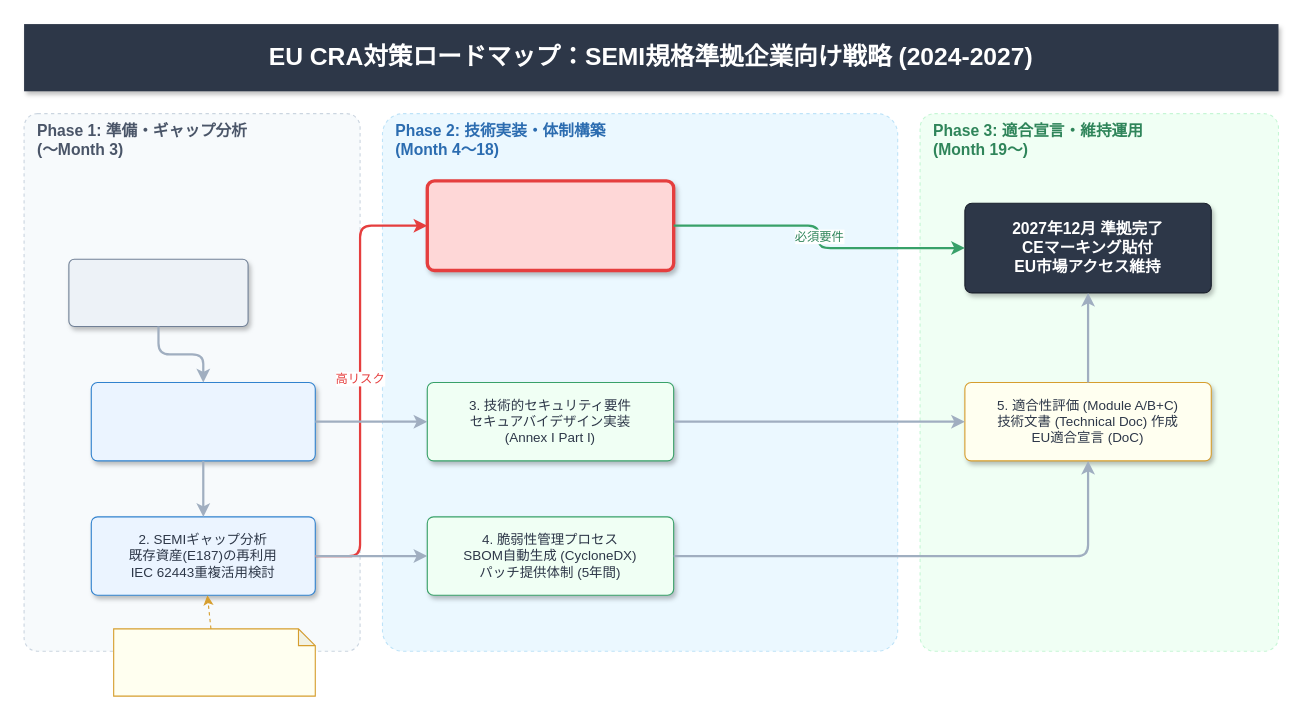
Image size: 1304x716. Some labels were removed from this diagram. The centre of each missing label's shape, as x and y in pixels:
"1. 規制スコープ特定 製品分類 (Default vs Class I/II) 責任主体確認 (製造者/輸入者)" belongs at [204,423].
"SEMI E187/E188 準拠済み (現状)" belongs at [159,294].
"Tips: IEC 62443認証取得済みの場合、 整合規格として評価工数を大幅削減可能" belongs at [214,662].
"【最優先】2026年9月 脆弱性報告義務 (Article 14) ENISA 24h早期警戒 / 72h詳細報告" belongs at [551,226].
